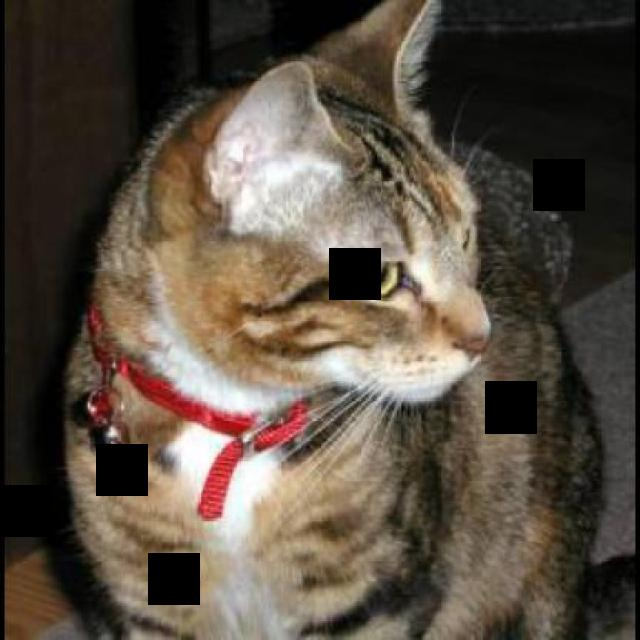unauthorized: (52, 0, 633, 638)
